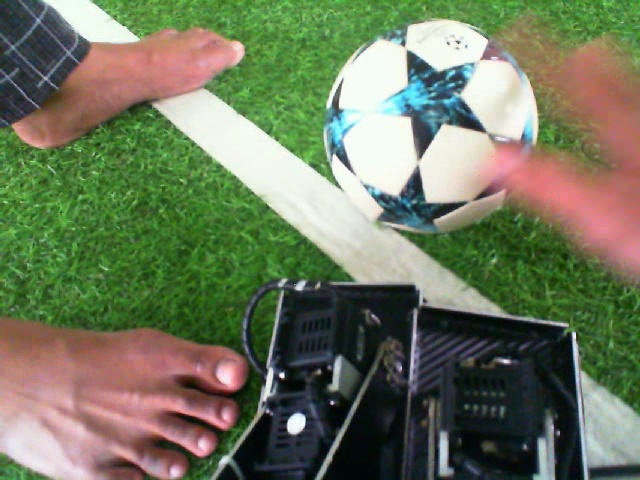ball: (321, 15, 544, 239)
